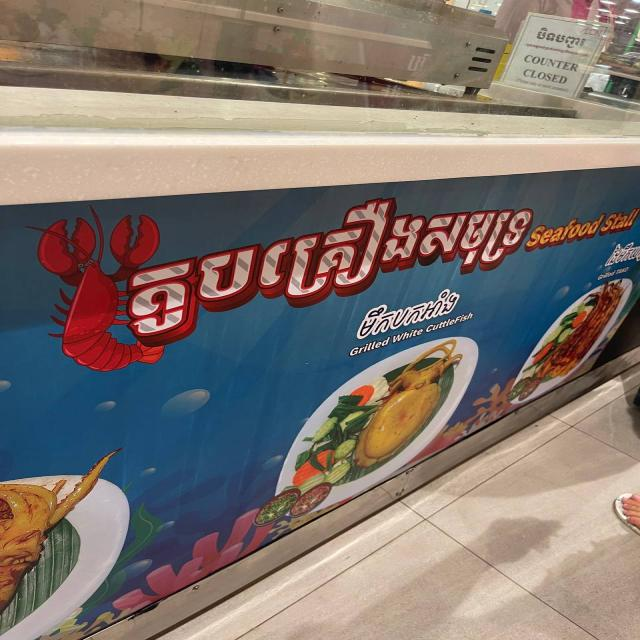Yolov11_80vkh: (115, 168, 539, 354), (343, 285, 461, 346)
